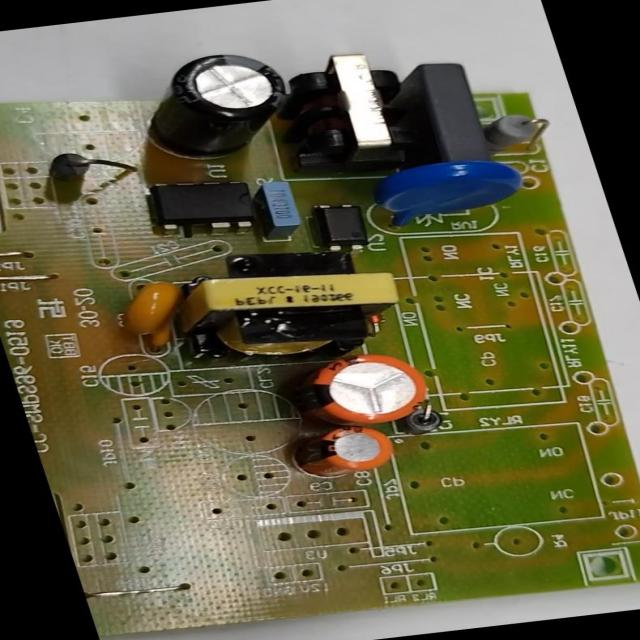Cap1: (292, 350, 432, 428)
Cap2: (289, 424, 399, 480)
Cap3: (130, 48, 304, 158)
MOSFET: (152, 175, 262, 234)
Mov: (371, 154, 527, 218)
Resistor: (486, 112, 556, 148)
Transformer: (153, 246, 414, 368), (278, 51, 424, 157)
